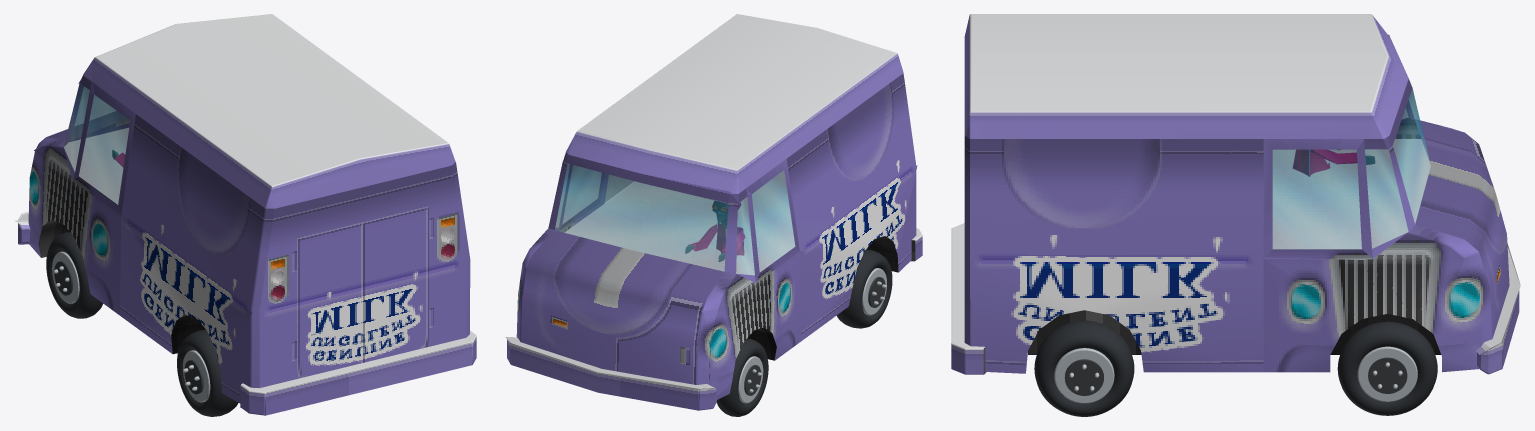
The model's file is car-cmilk.glb.
The picture shows the model from 3 angles, left to right: view 1: azimuth 30°, elevation 25°; view 2: azimuth 150°, elevation 25°; view 3: azimuth 270°, elevation 25°; orthographic projection. The views are drawn at different scales.
Parts seen in each view (by area): view 1: cMilkShape.004, cMilkShape.001, cMilkShape.002, cMilkShape.006, cMilkShape.005, Rounded tire.006, Rounded tire.005, cMilkShape, Alloy rim.005, Alloy rim.006, Rim recess.012, Rim recess.010; view 2: cMilkShape.004, cMilkShape.002, cMilkShape.006, cMilkShape.005, Rounded tire.006, Rounded tire.005, cMilkShape, traffPassCShape, Alloy rim.005, Alloy rim.006; view 3: cMilkShape.004, cMilkShape.003, cMilkShape.006, cMilkShape.005, Rounded tire.007, Rounded tire.004, cMilkShape.002, cMilkShape, Alloy rim.007, Alloy rim.004, traffPassCShape, Rim recess.015 (+1 smaller).
Boxes of the visible parts, x1,y1,x2,y2 form: cMilkShape.004: (14, 14, 476, 415); cMilkShape.001: (259, 165, 466, 387); cMilkShape.002: (64, 75, 470, 403); cMilkShape.006: (64, 84, 130, 204); cMilkShape.005: (64, 128, 128, 204); Rounded tire.006: (177, 329, 238, 416); Rounded tire.005: (46, 232, 103, 318); cMilkShape: (38, 220, 240, 407); Alloy rim.005: (52, 251, 79, 303); Alloy rim.006: (183, 350, 210, 402); Rim recess.012: (184, 360, 203, 394); Rim recess.010: (54, 261, 73, 295); cMilkShape.004: (505, 14, 922, 410); cMilkShape.002: (548, 73, 917, 341); cMilkShape.006: (555, 163, 795, 275); cMilkShape.005: (565, 170, 794, 274); Rounded tire.006: (836, 249, 892, 328); Rounded tire.005: (716, 338, 768, 416); cMilkShape: (709, 236, 915, 377); traffPassCShape: (685, 201, 744, 261); Alloy rim.005: (738, 356, 763, 403); Alloy rim.006: (862, 268, 886, 315); cMilkShape.004: (951, 14, 1520, 374); cMilkShape.003: (970, 139, 1263, 373); cMilkShape.006: (1272, 88, 1430, 249); cMilkShape.005: (1273, 139, 1430, 248); Rounded tire.007: (1034, 320, 1134, 416); Rounded tire.004: (1337, 321, 1437, 415); cMilkShape.002: (964, 34, 1414, 345); cMilkShape: (983, 310, 1440, 374); Alloy rim.007: (1054, 348, 1114, 403); Alloy rim.004: (1357, 346, 1417, 401); traffPassCShape: (1293, 150, 1374, 176); Rim recess.015: (1064, 359, 1103, 395).
Size of the model in its own units: 2.65 by 2.78 by 4.74.
Materials: 10 (7 with a texture image).
